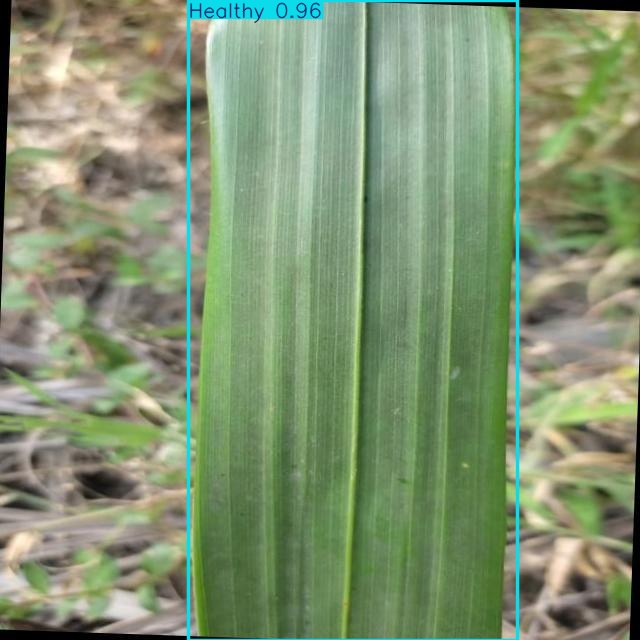Healthy: (189, 0, 518, 640)
